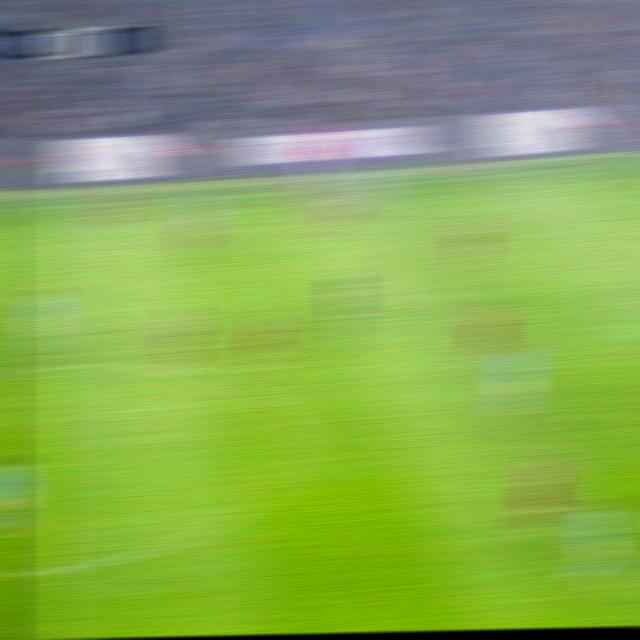halfcircle_bottom: (39, 549, 85, 586)
halfcircle_top: (36, 349, 77, 381)
midline_top_intersection: (36, 198, 73, 221)
